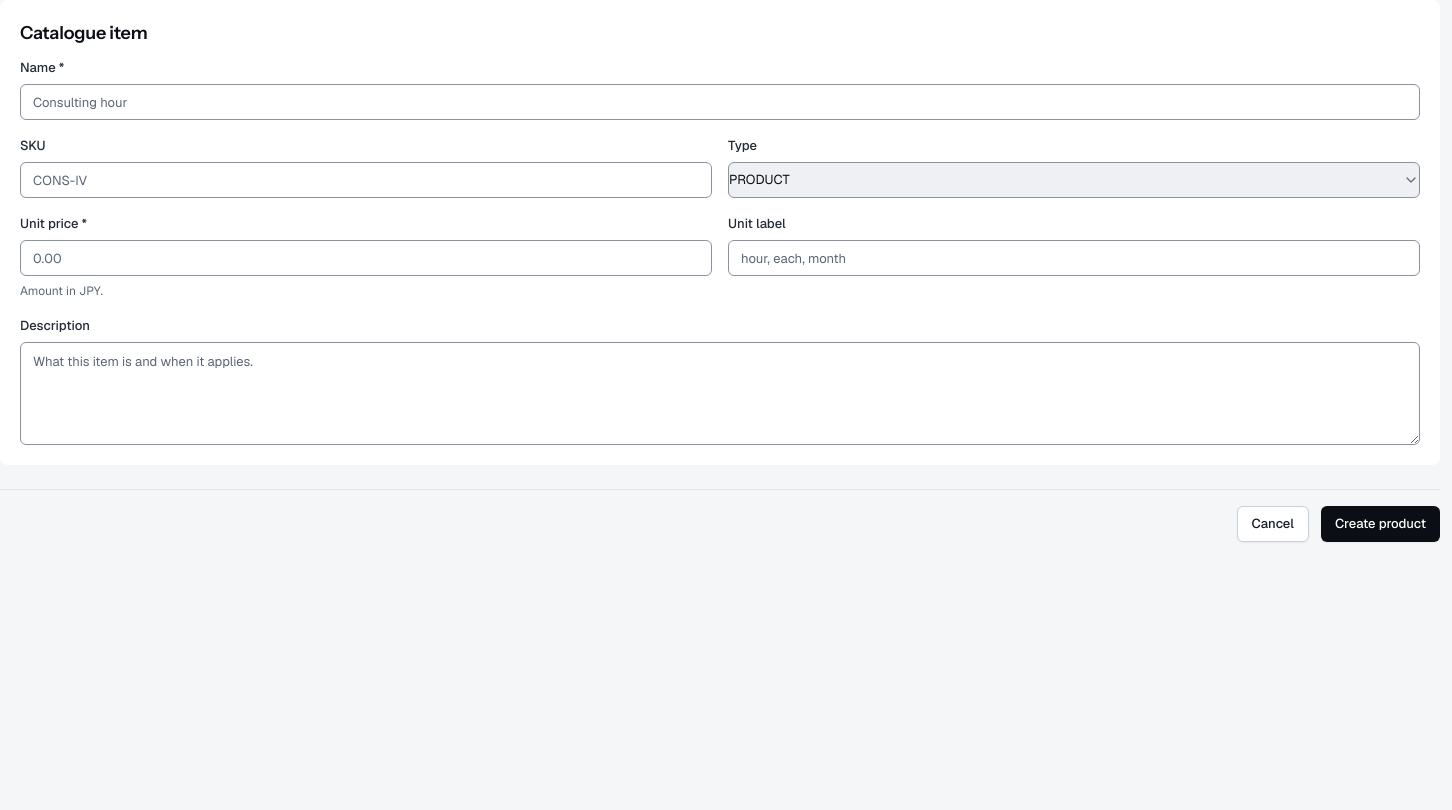
validation › refuses more decimals than the currency has
Type "Widget" into the field labelled "Name *".
click(720, 102); type("Widget")  # box x1=20 y1=84 x2=1420 y2=120
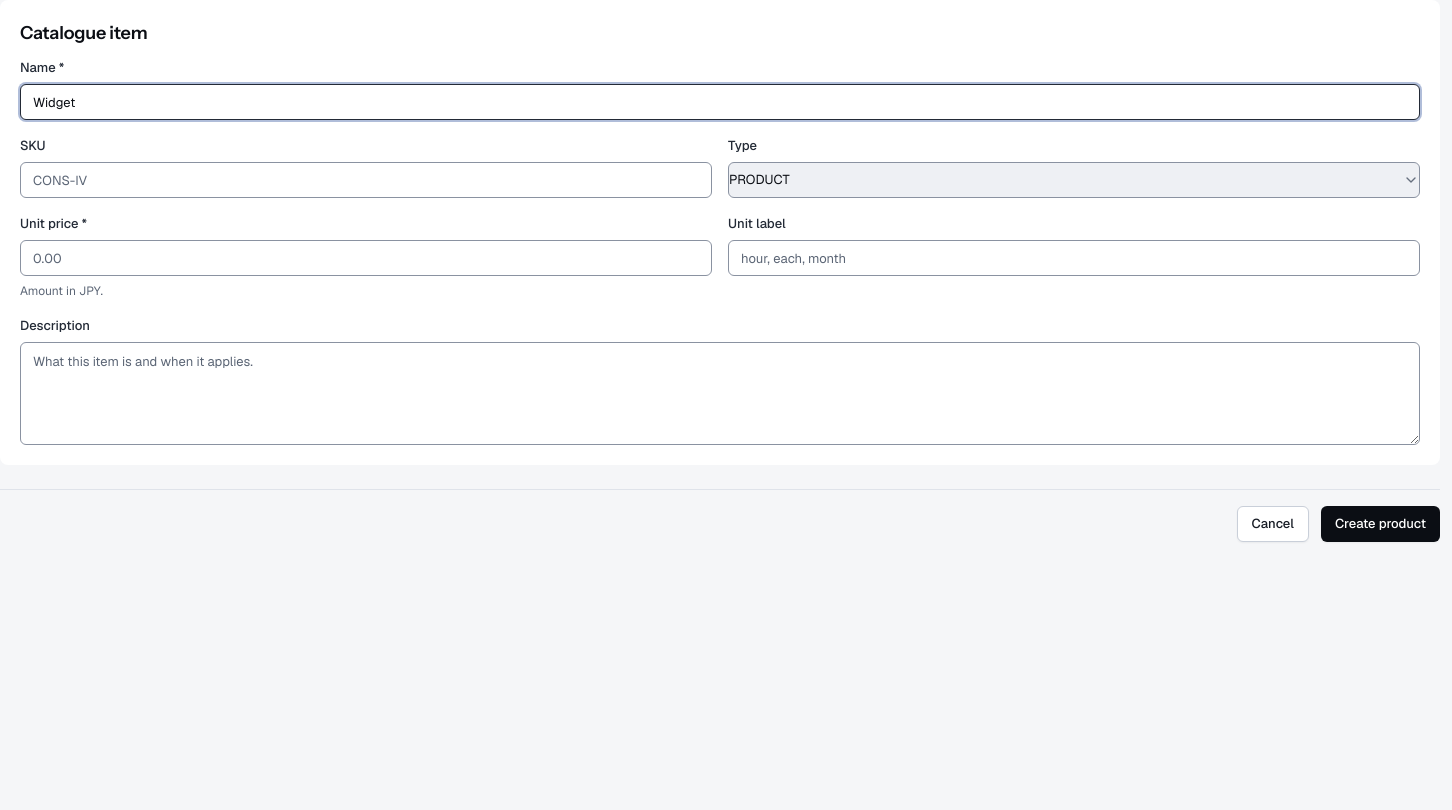
Type "12.5" into the field labelled "Unit price *".
click(366, 258); type("12.5")  # box x1=20 y1=240 x2=712 y2=276
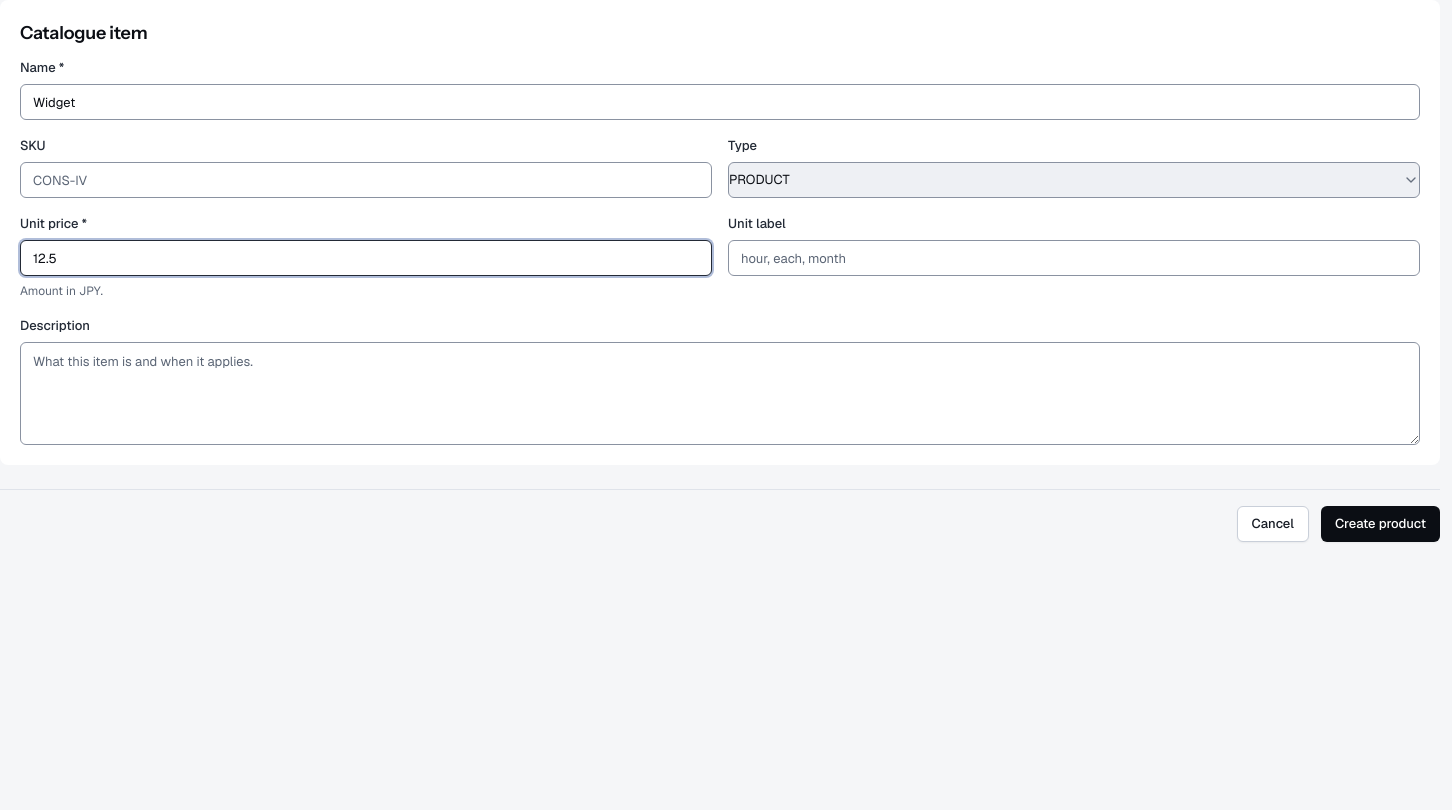
Click the button "Create product".
click(1380, 524)  # box x1=1321 y1=506 x2=1440 y2=542
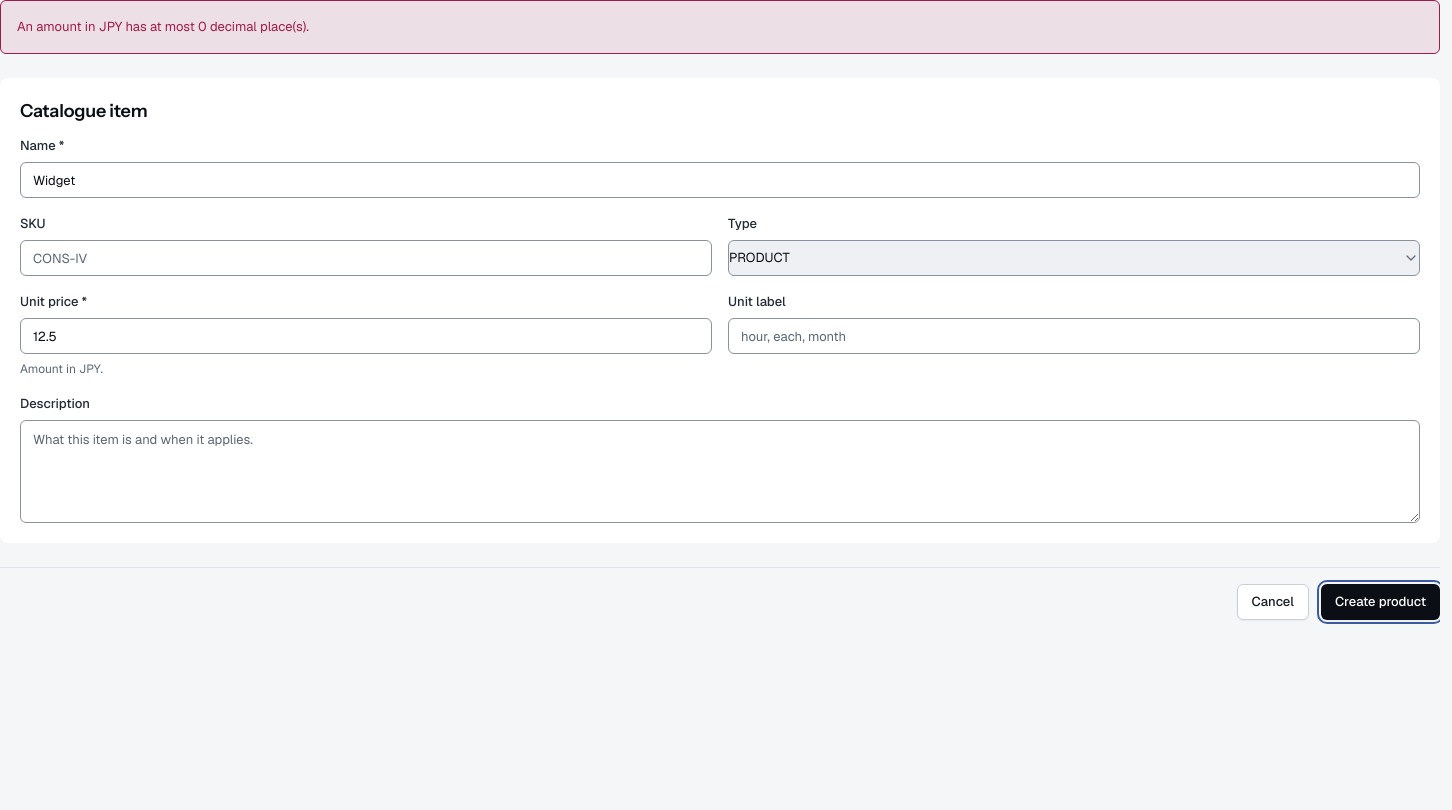
Now the message "An amount in JPY has at most 0 decimal place(s)." is shown, box x1=0 y1=0 x2=1440 y2=54
